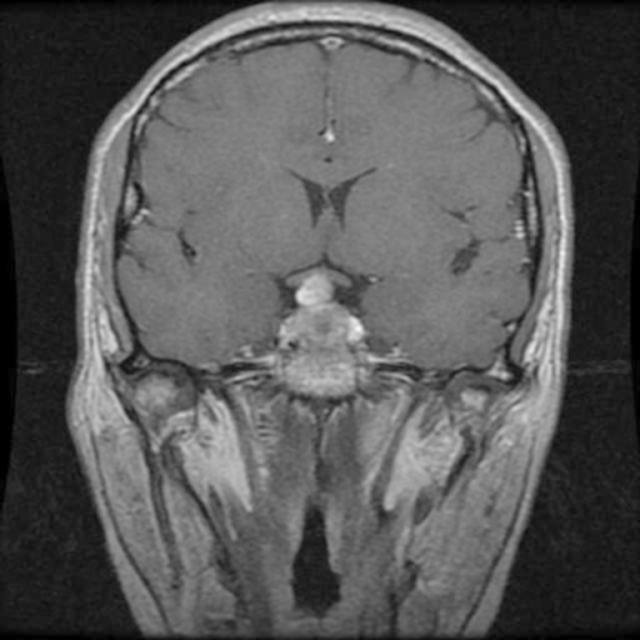no tumor: (290, 287, 361, 393)
